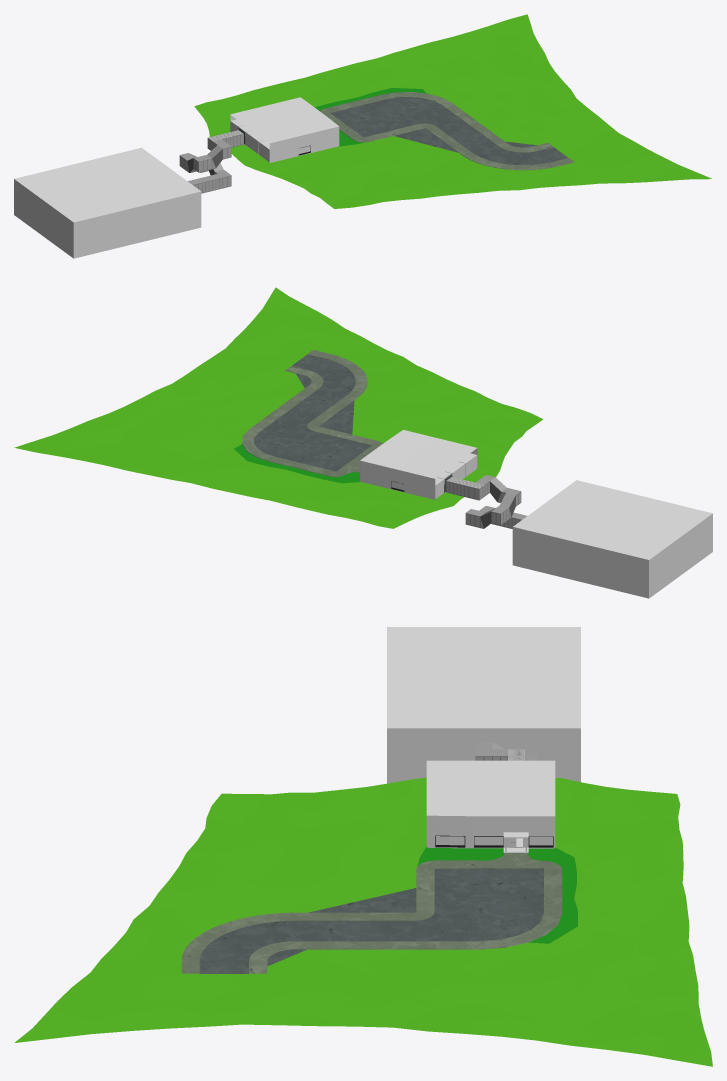
Rendered from OfifceAndWearhouse.fbx.
The picture shows the model from 3 angles, top to bottom: view 1: azimuth 30°, elevation 25°; view 2: azimuth 150°, elevation 25°; view 3: azimuth 270°, elevation 25°; orthographic projection. The views are drawn at different scales.
Parts seen in each view (by area): view 1: Ground, BackRoom, Road, OfficeRoom, HallWay; view 2: Ground, BackRoom, Road, OfficeRoom, HallWay; view 3: Ground, BackRoom, Road, OfficeRoom, HallWay.
Part boxes in pixels (x1=…): Ground: x1=194, y1=14, x2=711, y2=208; BackRoom: x1=14, y1=147, x2=201, y2=258; Road: x1=320, y1=92, x2=574, y2=170; OfficeRoom: x1=230, y1=97, x2=339, y2=162; HallWay: x1=179, y1=126, x2=245, y2=193; Ground: x1=14, y1=287, x2=543, y2=528; BackRoom: x1=512, y1=480, x2=712, y2=598; Road: x1=242, y1=350, x2=382, y2=476; OfficeRoom: x1=360, y1=430, x2=477, y2=499; HallWay: x1=444, y1=473, x2=526, y2=528; Ground: x1=14, y1=777, x2=712, y2=1066; BackRoom: x1=387, y1=627, x2=580, y2=783; Road: x1=181, y1=852, x2=562, y2=973; OfficeRoom: x1=426, y1=760, x2=555, y2=851; HallWay: x1=475, y1=742, x2=537, y2=760.
Size of what is drawn, in the model's own units: 16058 by 1539 by 10802.
